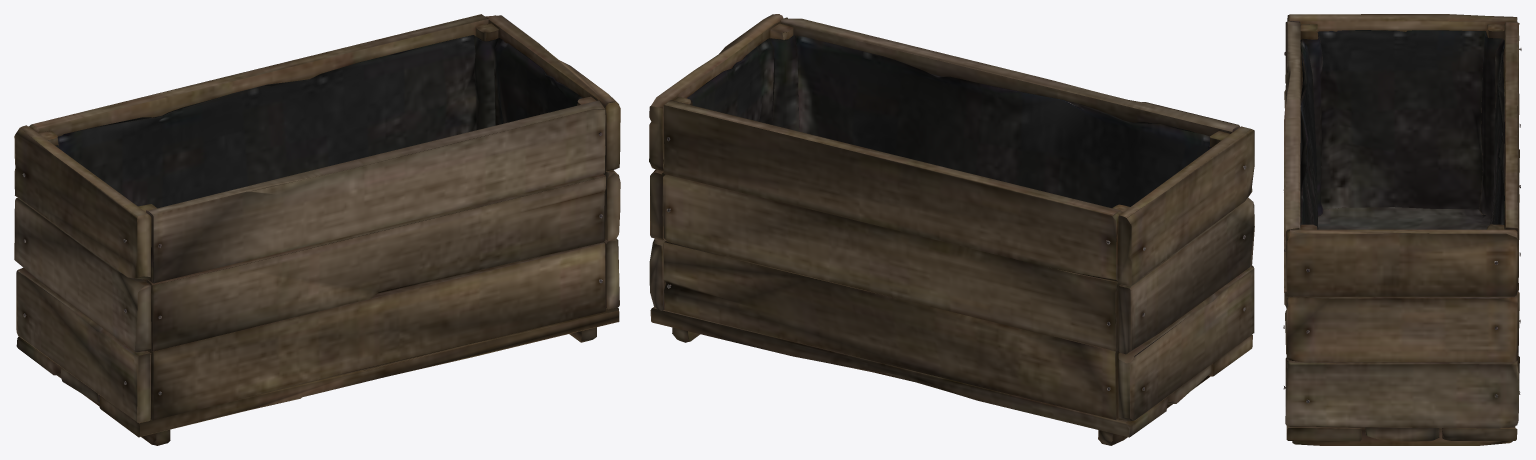
The model's file is planter-medium.glb.
3 renders of one model, left to right at view 1: azimuth 30°, elevation 25°; view 2: azimuth 150°, elevation 25°; view 3: azimuth 270°, elevation 25°, orthographic. The views are drawn at different scales.
Visible parts, largest first — view 1: planter_box_01 baked; view 2: planter_box_01 baked; view 3: planter_box_01 baked.
Part boxes in pixels (x1=…): planter_box_01 baked: x1=14, y1=14, x2=620, y2=445; planter_box_01 baked: x1=649, y1=14, x2=1254, y2=445; planter_box_01 baked: x1=1283, y1=14, x2=1521, y2=445.
Size of the model in its own units: 0.9118 by 0.425 by 0.4135.
Materials: 1 (1 with a texture image).
